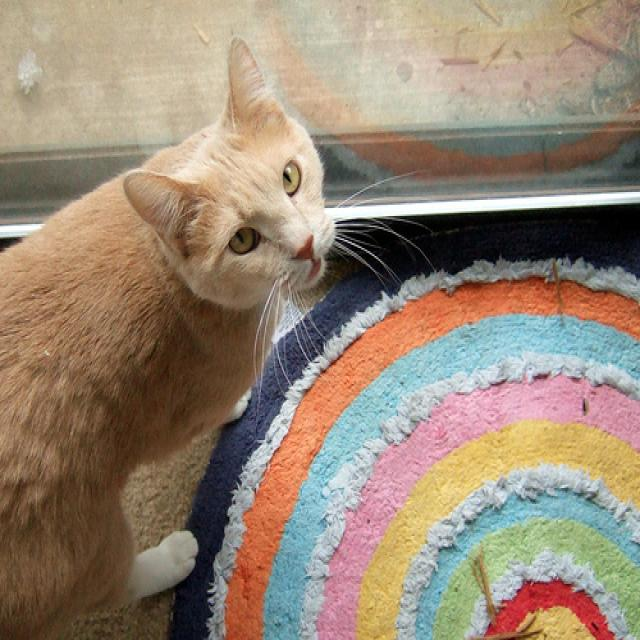cat: (1, 35, 338, 640)
